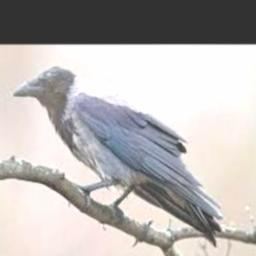Crow: (12, 65, 223, 246)
